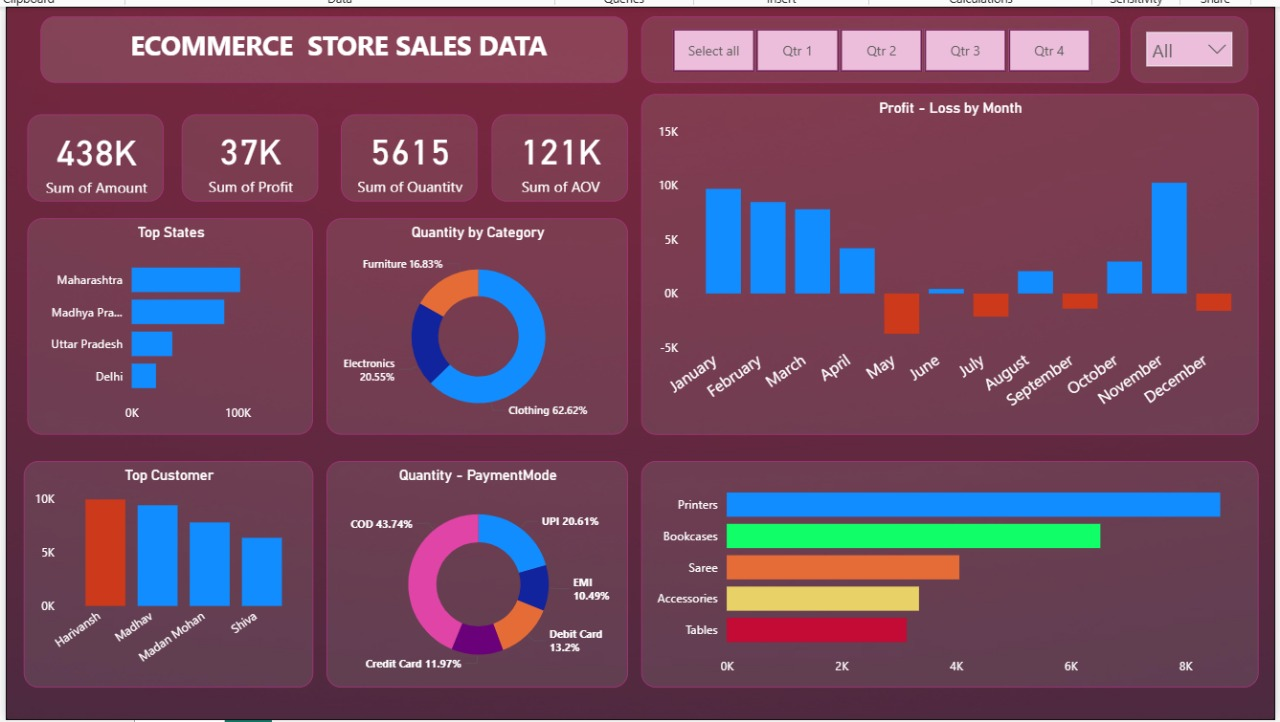

The page's visual inventory and layout, read from the dashboard file:
{"tool":"powerbi","page":{"name":"Page 1","canvas":[1280,720],"ordinal":0},"visuals":[{"type":"textbox","box":[35,9.6,592.2,67.5],"z":0},{"type":"clusteredColumnChart","title":"Profit - Loss by Month","fields":{"Category":["Orders.Order Date.Variation.Date Hierarchy.Month"],"Y":["Sum(Details.Profit)"]},"box":[640.4,88,622.3,343.7],"z":1000},{"type":"barChart","fields":{"Category":["Details.Sub-Category"],"Y":["Sum(Details.Profit)"]},"box":[640.4,458.3,622.3,229.1],"z":2000},{"type":"donutChart","title":"Quantity by Category","fields":{"Y":["Sum(Details.Quantity)"],"Series":["Details.Category"]},"box":[323.2,213.5,303.9,218.3],"z":3000},{"type":"columnChart","title":"Top Customer","fields":{"Category":["Orders.CustomerName"],"Y":["Sum(Details.Amount)"]},"box":[18.1,458.3,291.9,229.1],"z":4000},{"type":"clusteredBarChart","title":"Top States","fields":{"Category":["Orders.State"],"Y":["Sum(Details.Amount)"]},"box":[22,214.1,288.2,218.2],"z":5000},{"type":"card","fields":{"Values":["Sum(Details.Amount)"]},"box":[21.7,108.5,137.5,88],"z":6000},{"type":"card","fields":{"Values":["Sum(Details.Profit)"]},"box":[177,108.4,137.2,87.8],"z":7000},{"type":"card","fields":{"Values":["Sum(Details.Quantity)"]},"box":[337.6,108.4,137.2,87.8],"z":8000},{"type":"card","fields":{"Values":["Sum(Details.AOV)"]},"box":[489.9,108.4,137.2,87.8],"z":9000},{"type":"slicer","fields":{"Values":["Orders.Order Date.Variation.Date Hierarchy.Quarter"]},"box":[640.4,9.6,482.4,67.5],"z":10000},{"type":"slicer","fields":{"Values":["Orders.State"]},"box":[1133.7,9.6,118.2,67.5],"z":11000},{"type":"donutChart","title":" Quantity - PaymentMode","fields":{"Y":["Sum(Details.Quantity)"],"Series":["Details.PaymentMode"]},"box":[323,458,304,229],"z":12000}]}

Visuals, with their boxes on the page's 1280x720 design canvas (x1, y1, x2, y2). These are canvas units, not pixel positions in the 1280x722 screenshot, which may show the page scaled, cropped or inside an application window:
textbox: detection(35, 10, 627, 77)
"Profit - Loss by Month" clusteredColumnChart: detection(640, 88, 1263, 432)
barChart - Details.Sub-Category x Sum(Details.Profit): detection(640, 458, 1263, 687)
"Quantity by Category" donutChart: detection(323, 214, 627, 432)
"Top Customer" columnChart: detection(18, 458, 310, 687)
"Top States" clusteredBarChart: detection(22, 214, 310, 432)
card - Sum(Details.Amount): detection(22, 108, 159, 196)
card - Sum(Details.Profit): detection(177, 108, 314, 196)
card - Sum(Details.Quantity): detection(338, 108, 475, 196)
card - Sum(Details.AOV): detection(490, 108, 627, 196)
slicer - Orders.Order Date.Variation.Date Hierarchy.Quarter: detection(640, 10, 1123, 77)
slicer - Orders.State: detection(1134, 10, 1252, 77)
" Quantity - PaymentMode" donutChart: detection(323, 458, 627, 687)
